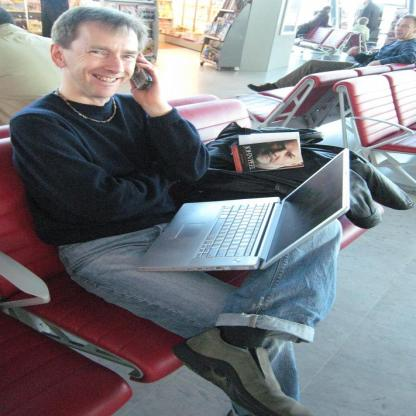board: (133, 148, 350, 270)
